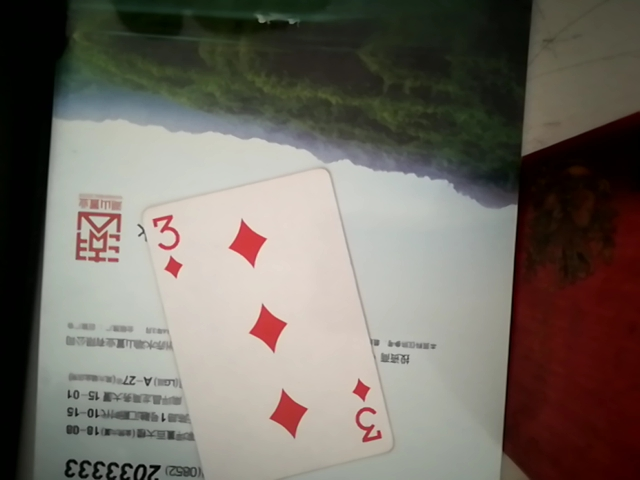fk 3: (116, 144, 406, 480)
